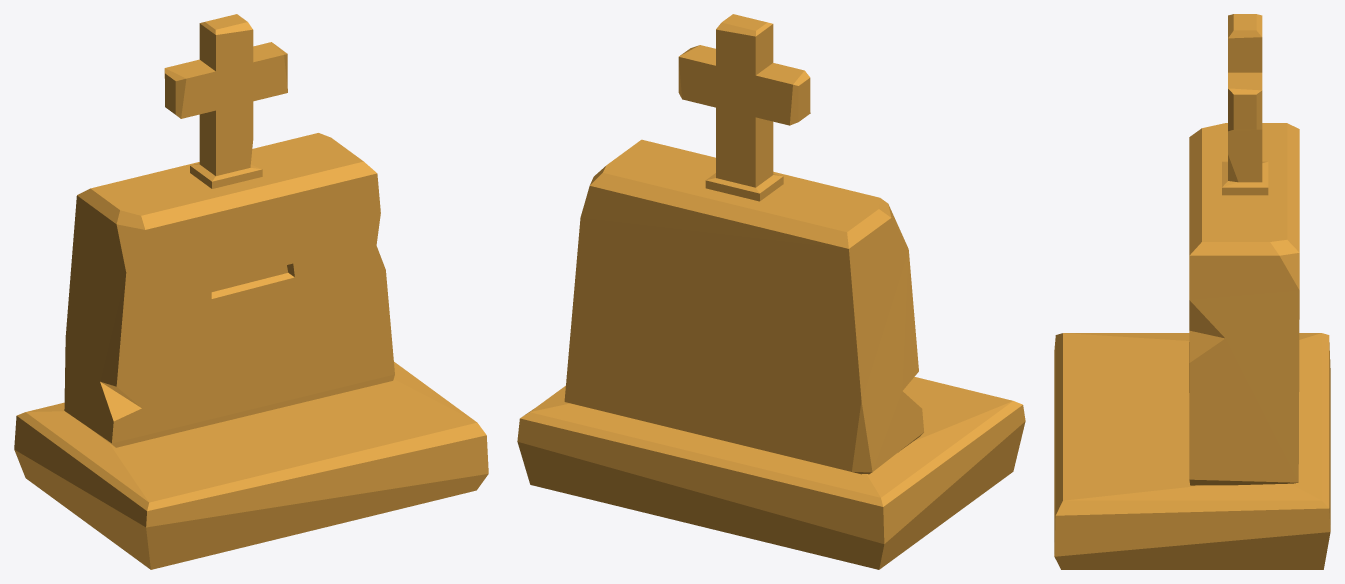
Rendered from gravestone-old-classic-cross.fbx.
3 views of the same model, side by side, from view 1: azimuth 30°, elevation 25°; view 2: azimuth 150°, elevation 25°; view 3: azimuth 270°, elevation 25° (orthographic). The views are drawn at different scales.
Visible parts, largest first — view 1: gravestone-old-classic-cross; view 2: gravestone-old-classic-cross; view 3: gravestone-old-classic-cross.
Boxes of the visible parts, x1=… form: gravestone-old-classic-cross: x1=14, y1=14, x2=488, y2=569; gravestone-old-classic-cross: x1=517, y1=14, x2=1025, y2=569; gravestone-old-classic-cross: x1=1054, y1=14, x2=1330, y2=569.
Bounding box in the file's own units: 0.6059 × 0.7501 × 0.404.
